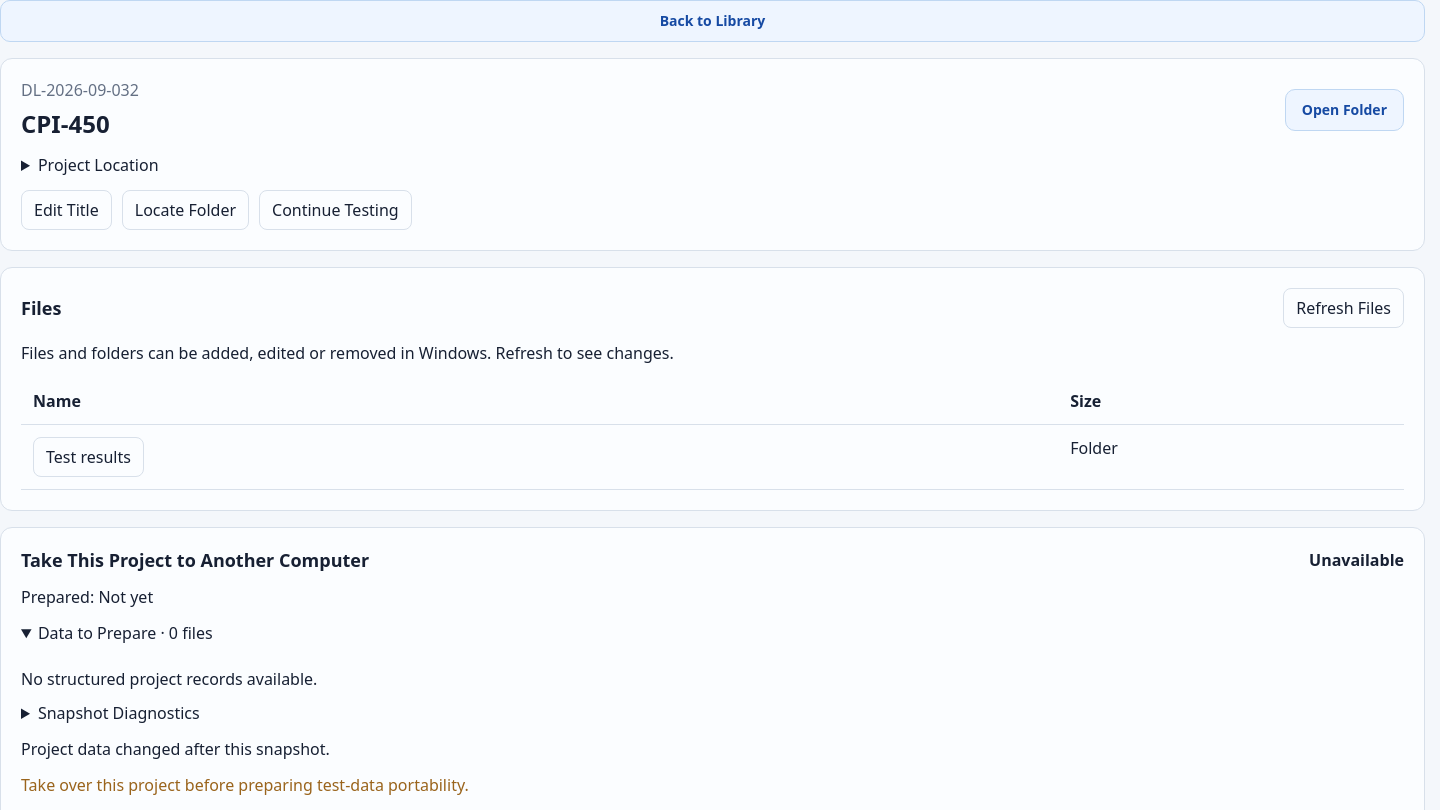
Scenario: Library project management › refreshes snapshot eligibility and files immediately after takeover
Expected: the text "Take over this project before preparing test-data portability." is shown, [21,774,469,796]
Click the button "Continue Testing". click: coordinates (335, 210)
box: [259,190,412,230]
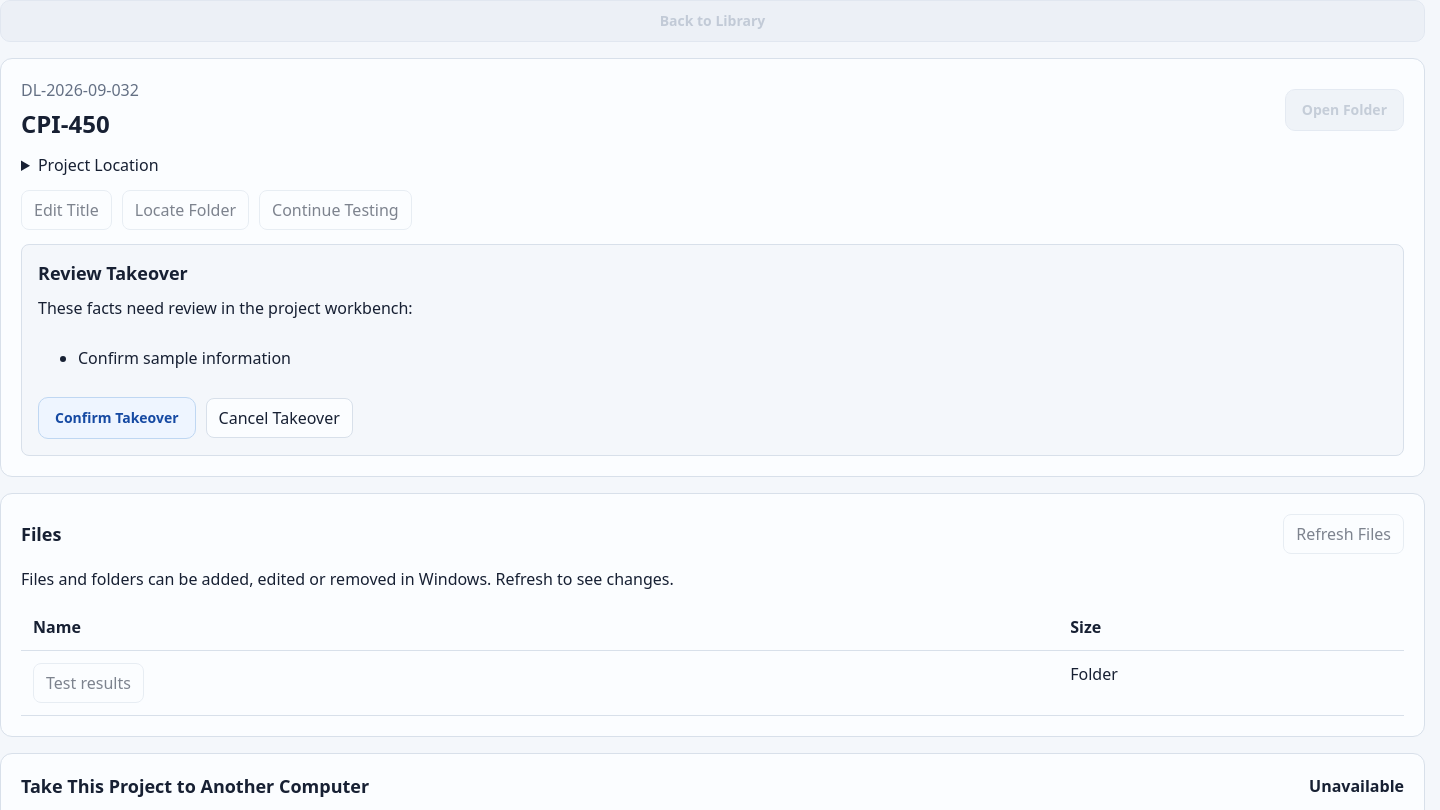
Click the button "Confirm Takeover". click: coordinates (117, 418)
box: [38,397,196,439]
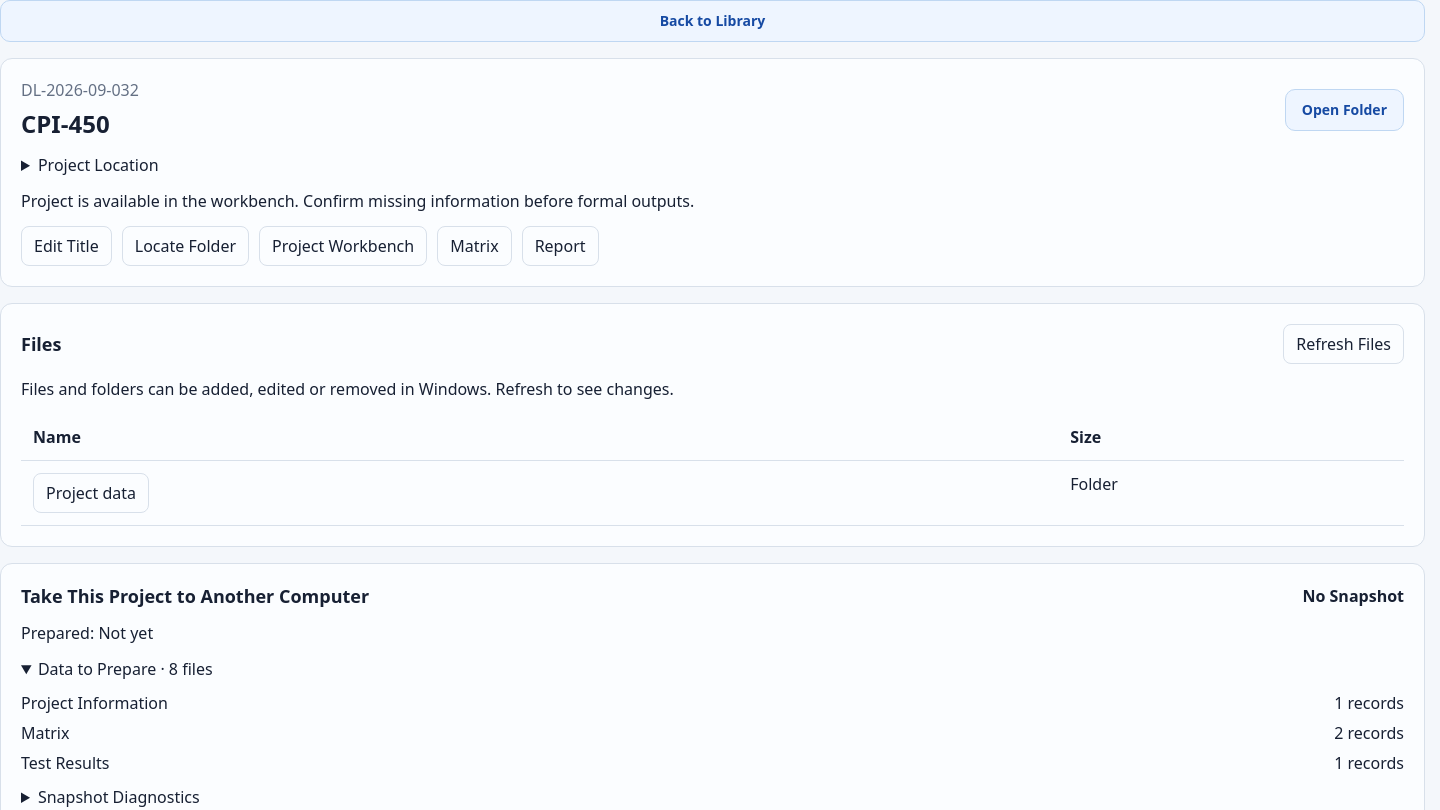
Expected: the button "Project data" is shown, [33,473,149,513]
Result: the text "No Snapshot" is shown at [1302,585,1404,607]
